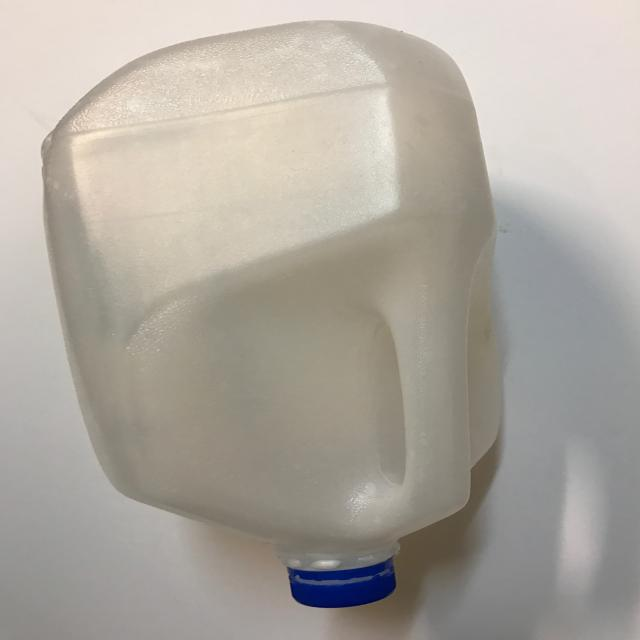plastic: (39, 19, 504, 608)
